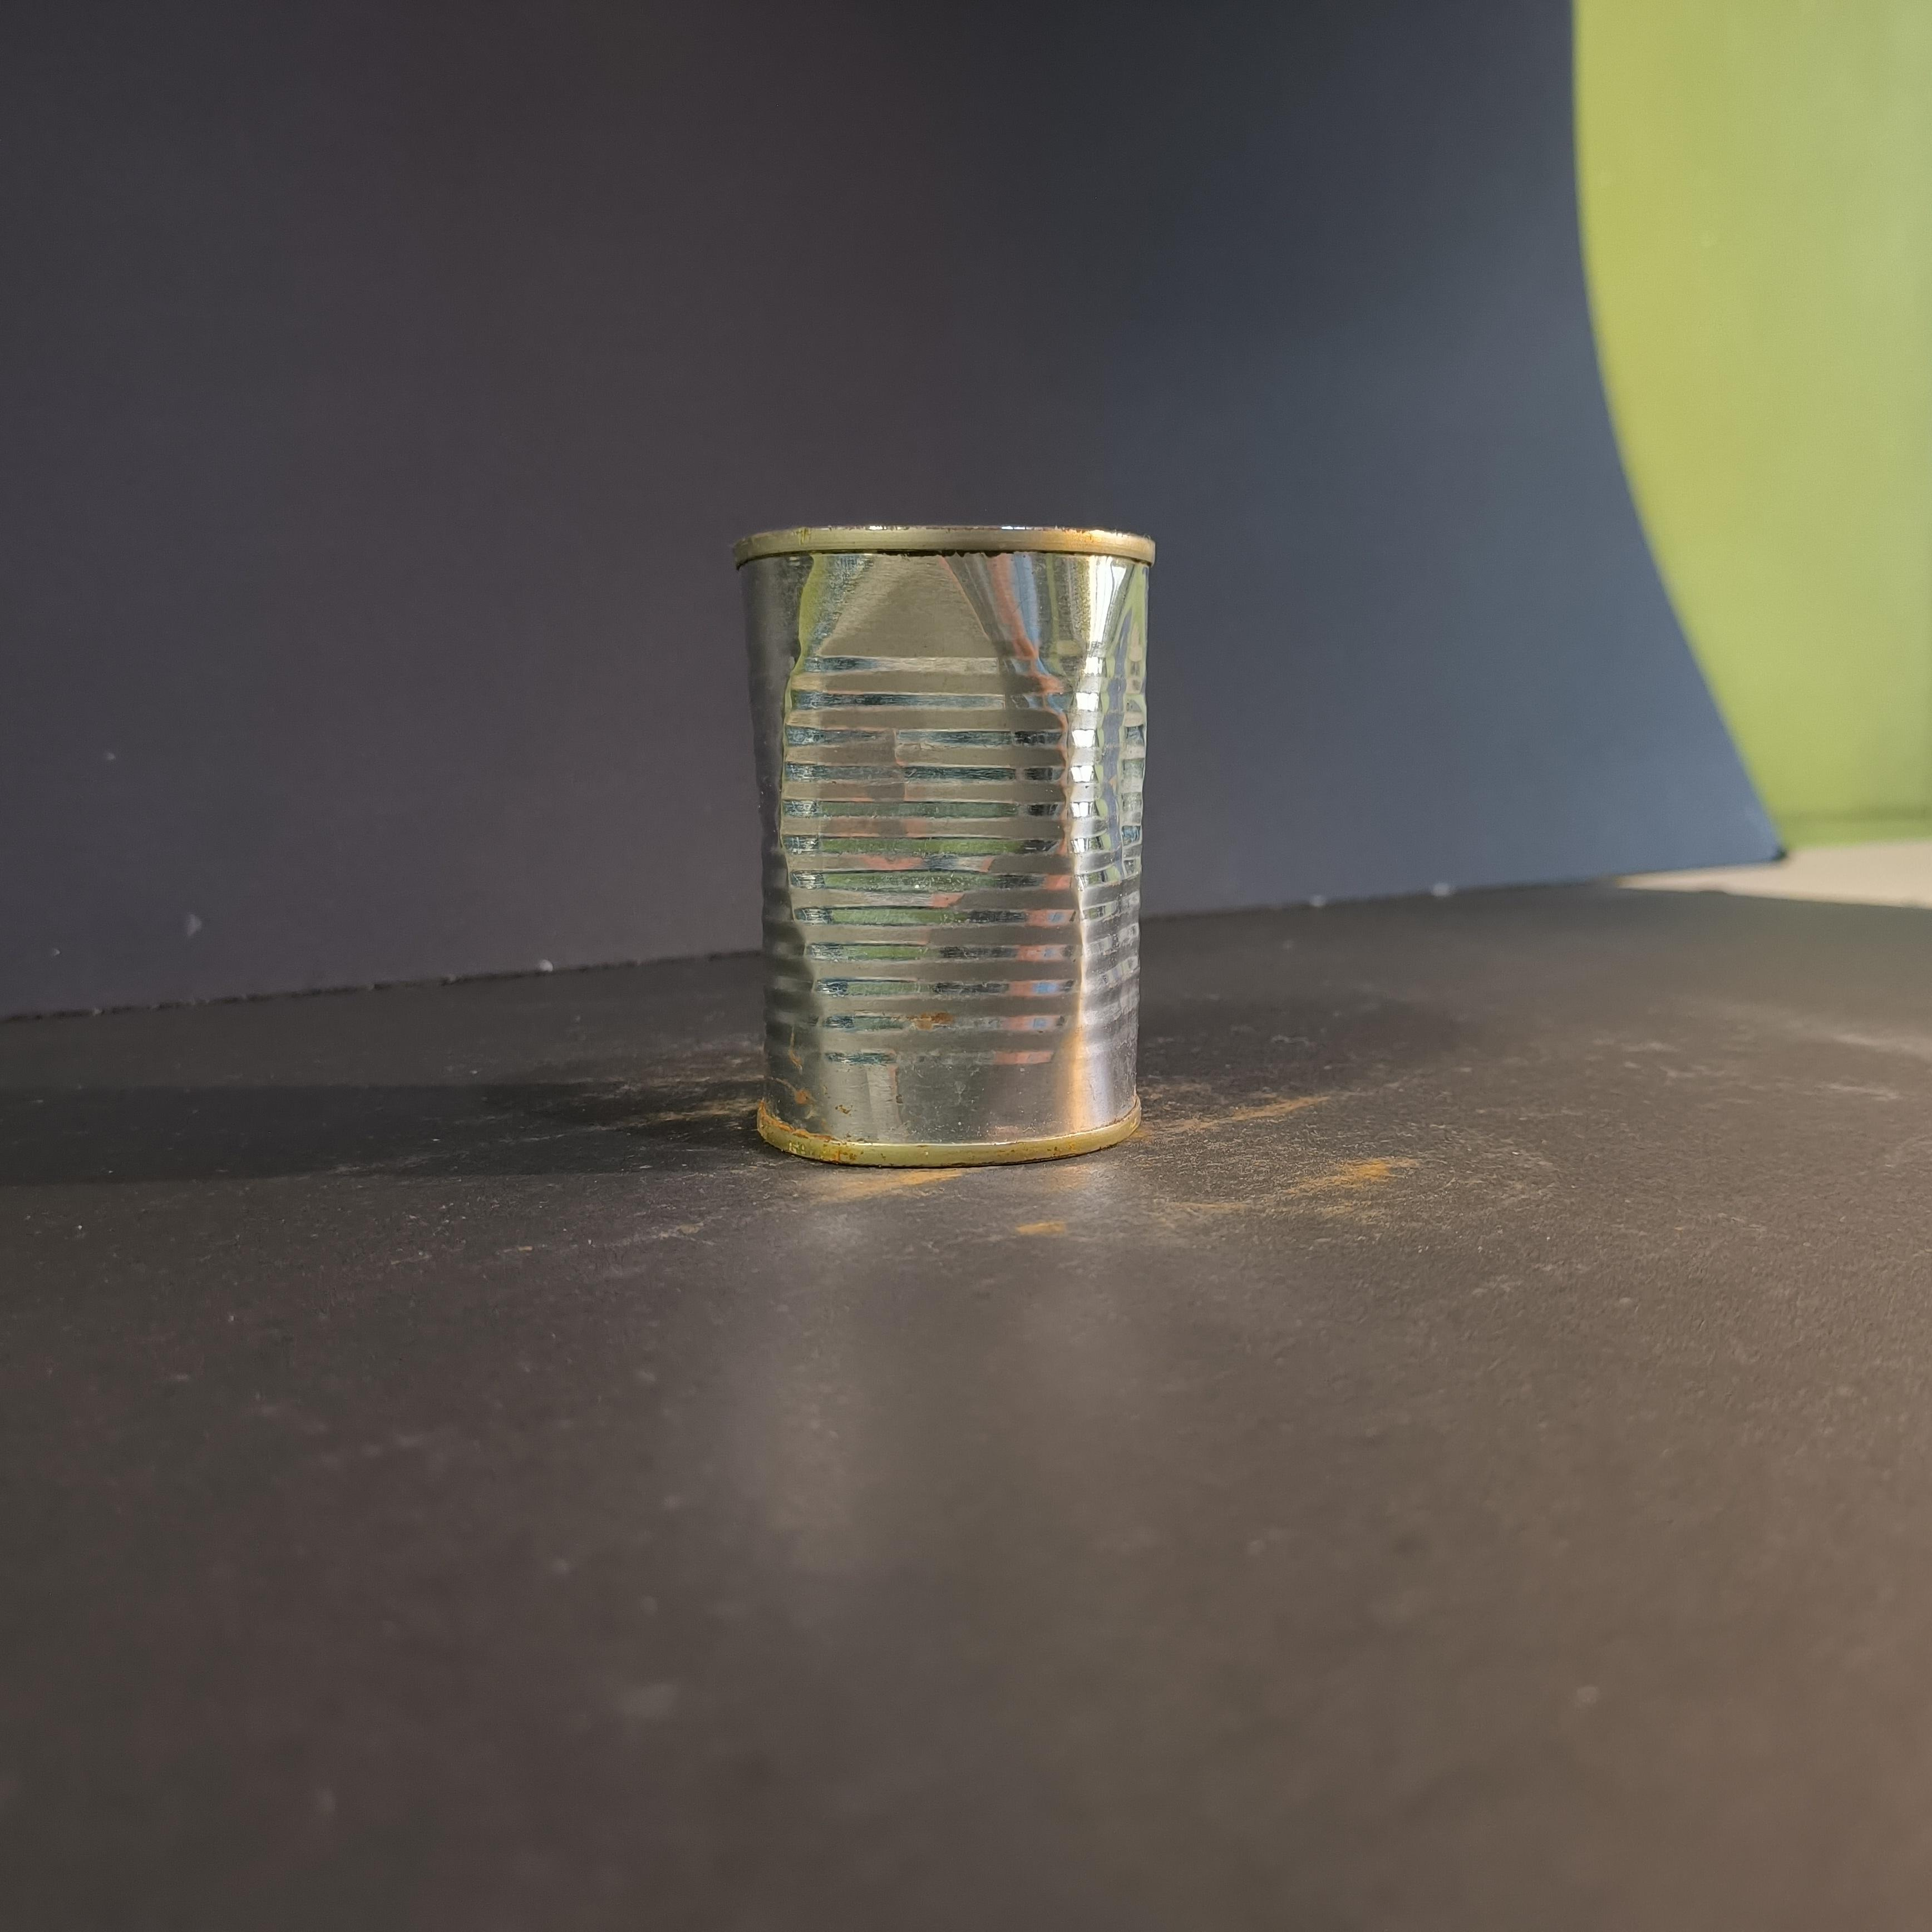Dented: (720, 492, 1187, 1171)
